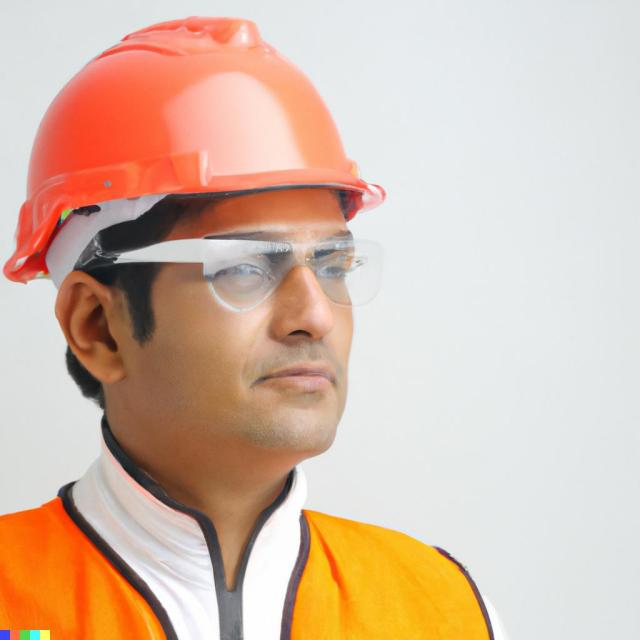Reflective-Jacket: (0, 482, 522, 639)
Safety-Helmet: (5, 14, 387, 268)
